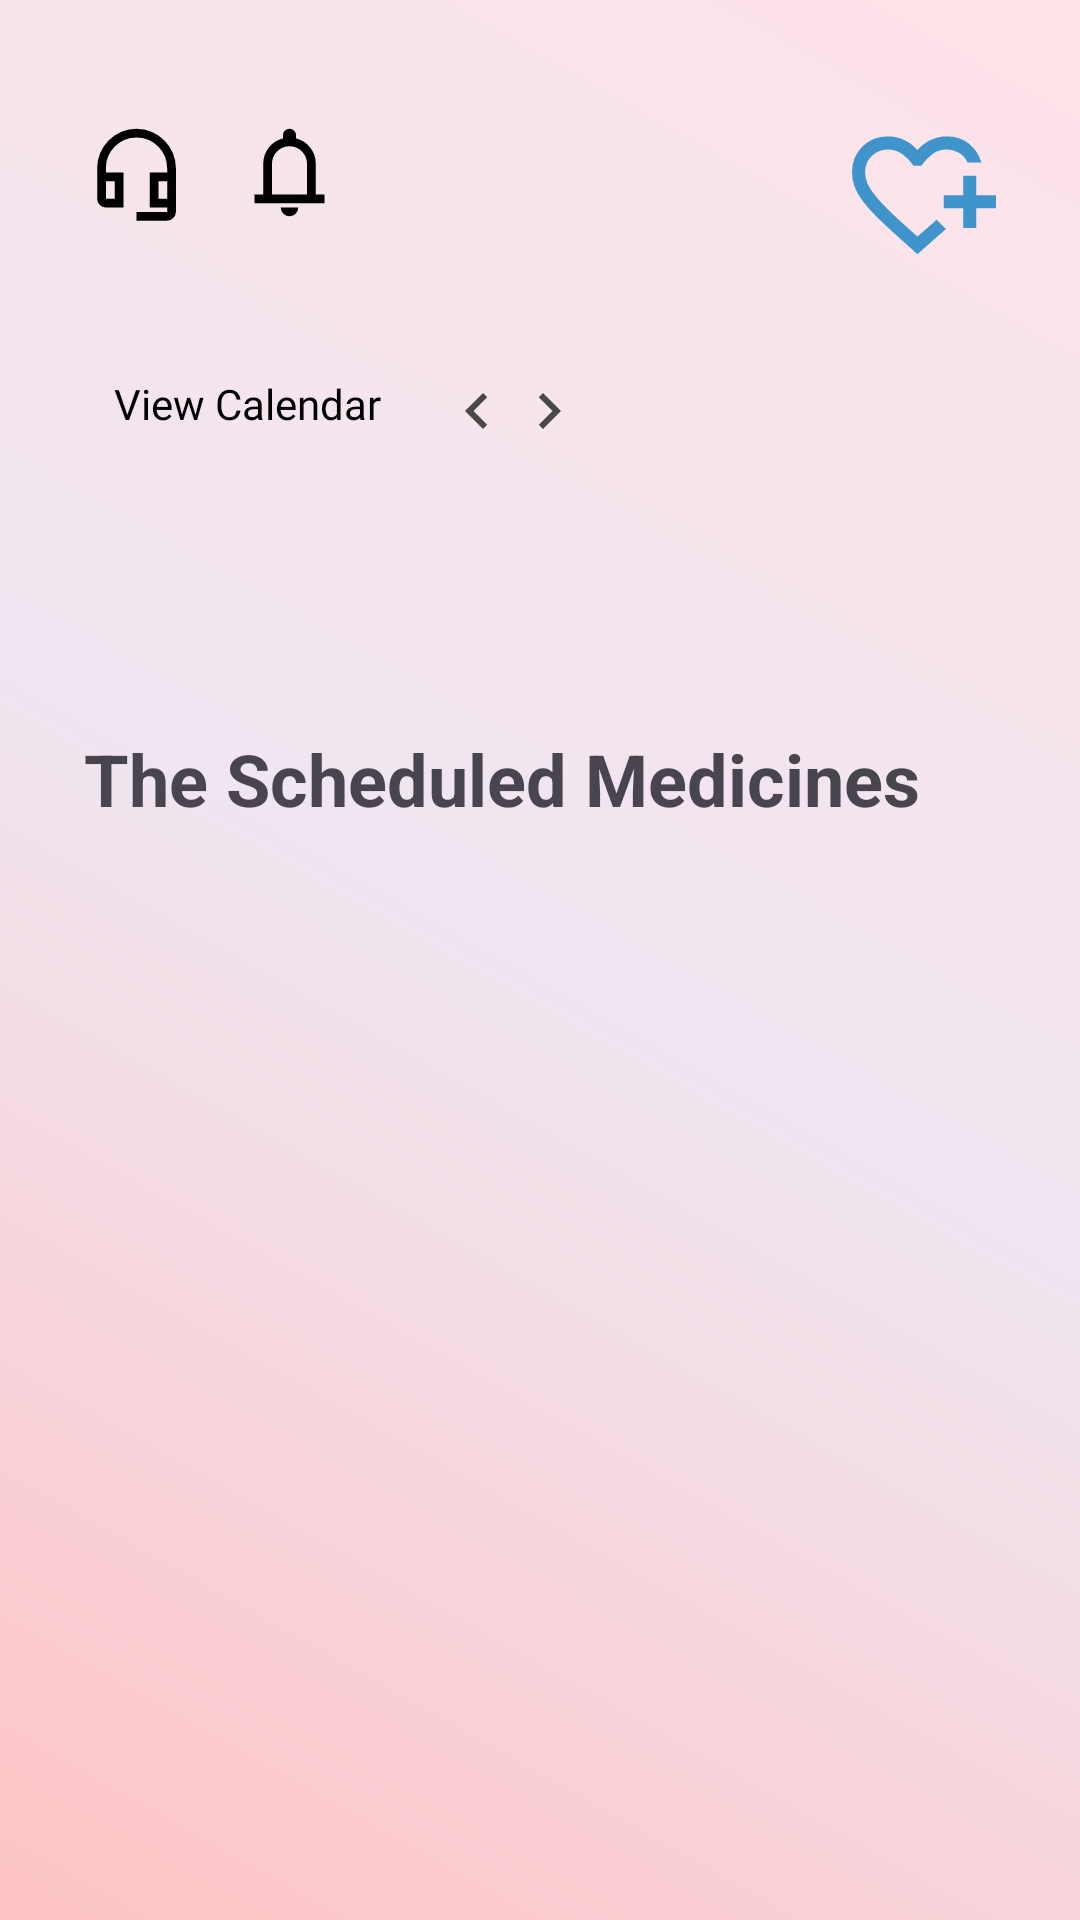

Icons on this 1080*1920 Android screen, each with its box as [x1=x1, y1=y1, x2=x2, y2=y2]:
next month: [x1=539, y1=393, x2=561, y2=429]
Notification button: [x1=254, y1=128, x2=325, y2=217]
previous month: [x1=465, y1=393, x2=487, y2=429]
Support Button: [x1=97, y1=128, x2=176, y2=221]
